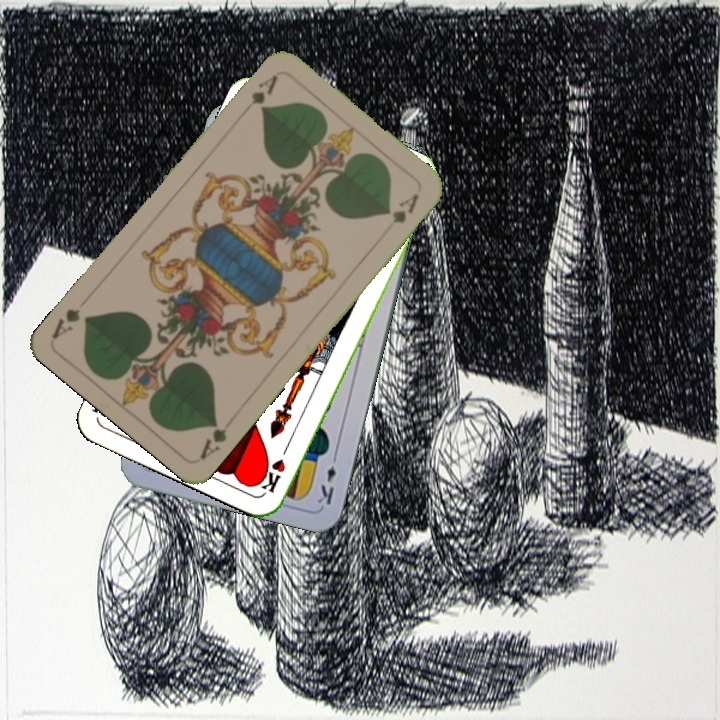EK: (313, 449, 340, 508)
GA: (237, 70, 281, 119), (195, 415, 230, 463)
HK: (256, 439, 293, 495)
